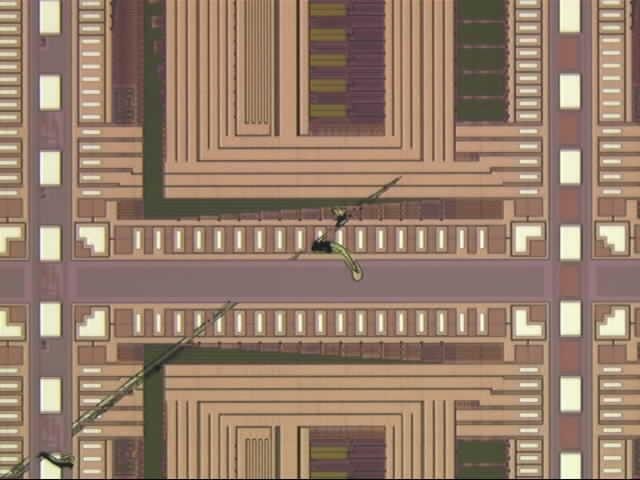SCRATCH: (1, 168, 414, 480)
